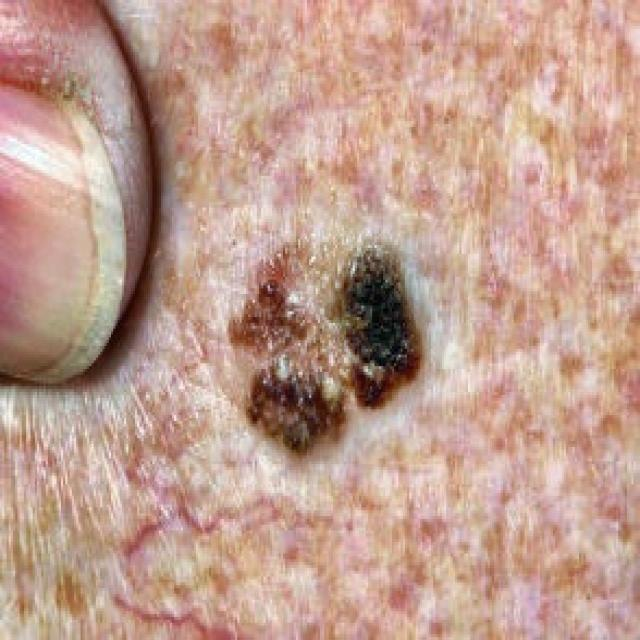Seborrheic-Keratoses-and-other-Benign-Tumors: (218, 130, 448, 517)
